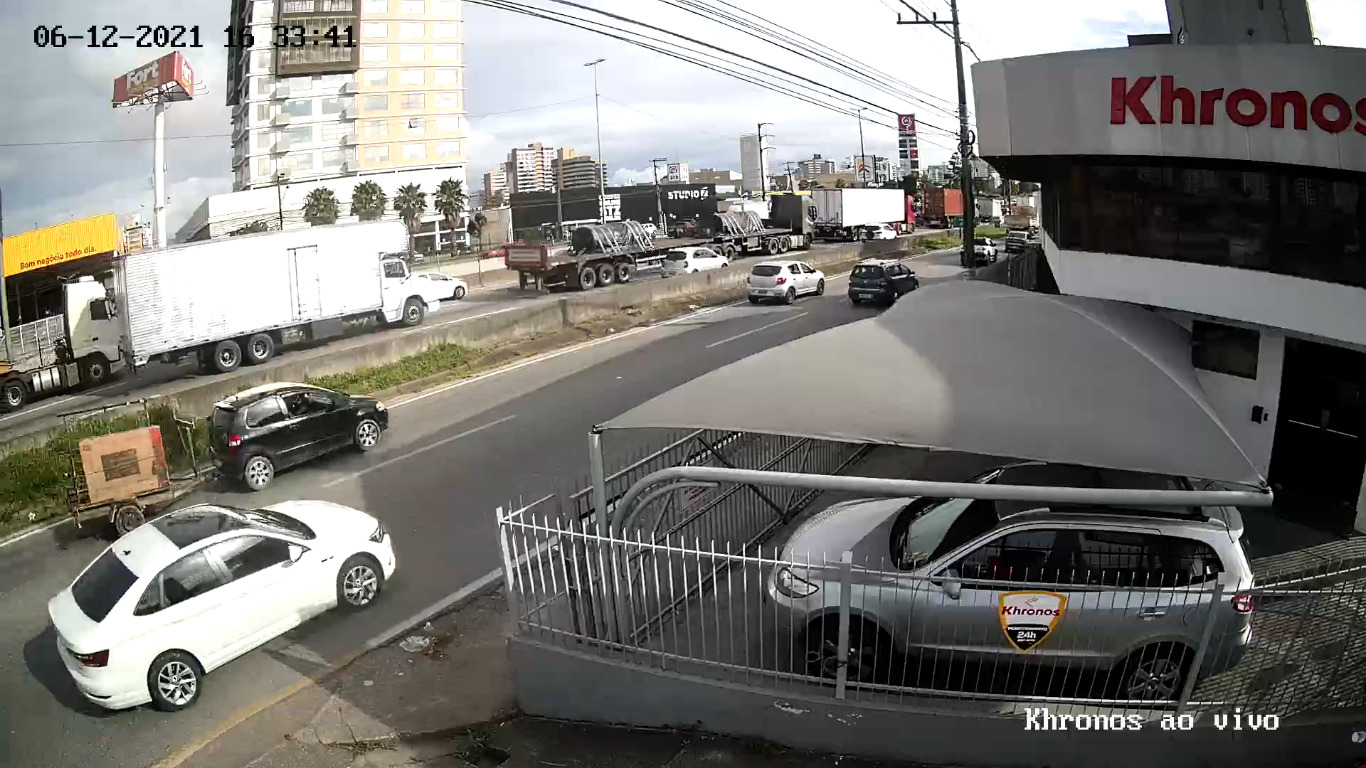car: (47, 501, 396, 713), (208, 381, 388, 492), (748, 260, 826, 306)
